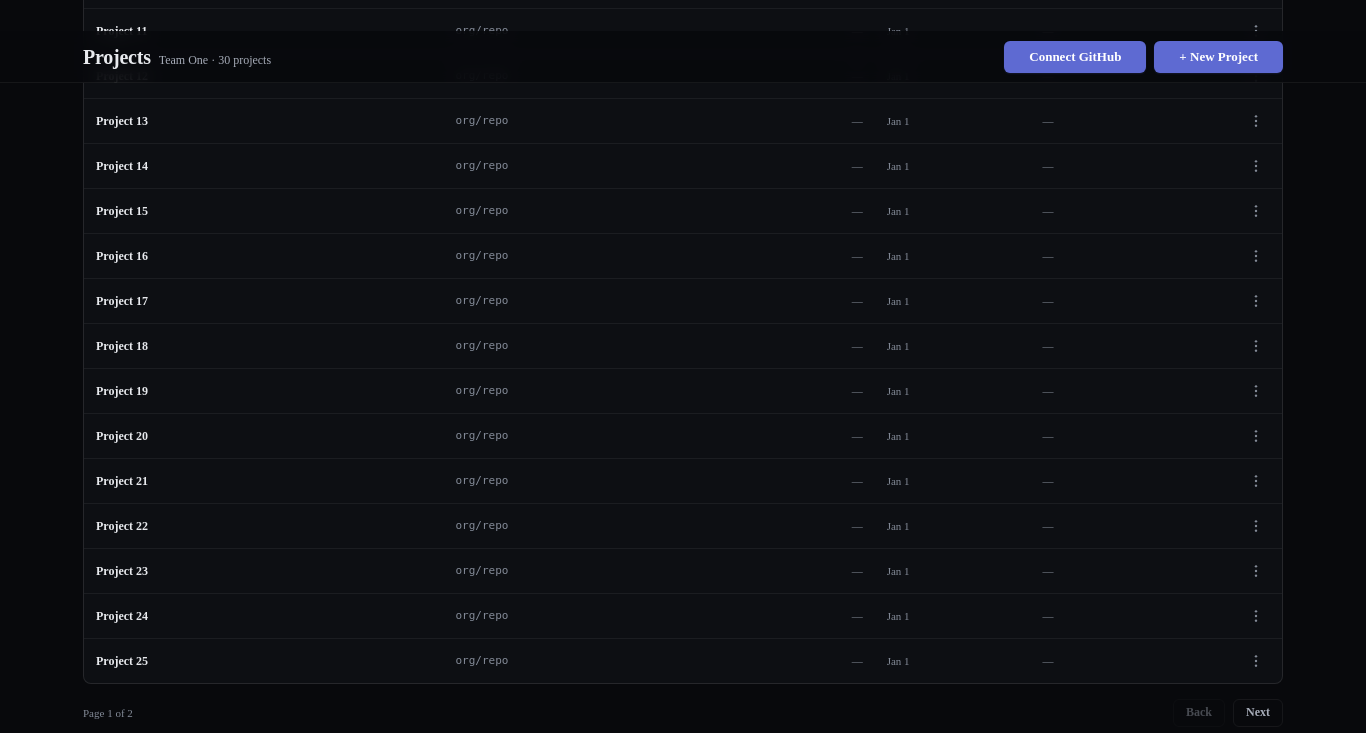
Test case: /projects pagination reset › the GitHub-only filter goes back to page 1
(page scrolled)
Step 1. Click the button "Next" → coordinates (1258, 713), box [1233,699,1283,727]
(page scrolled)
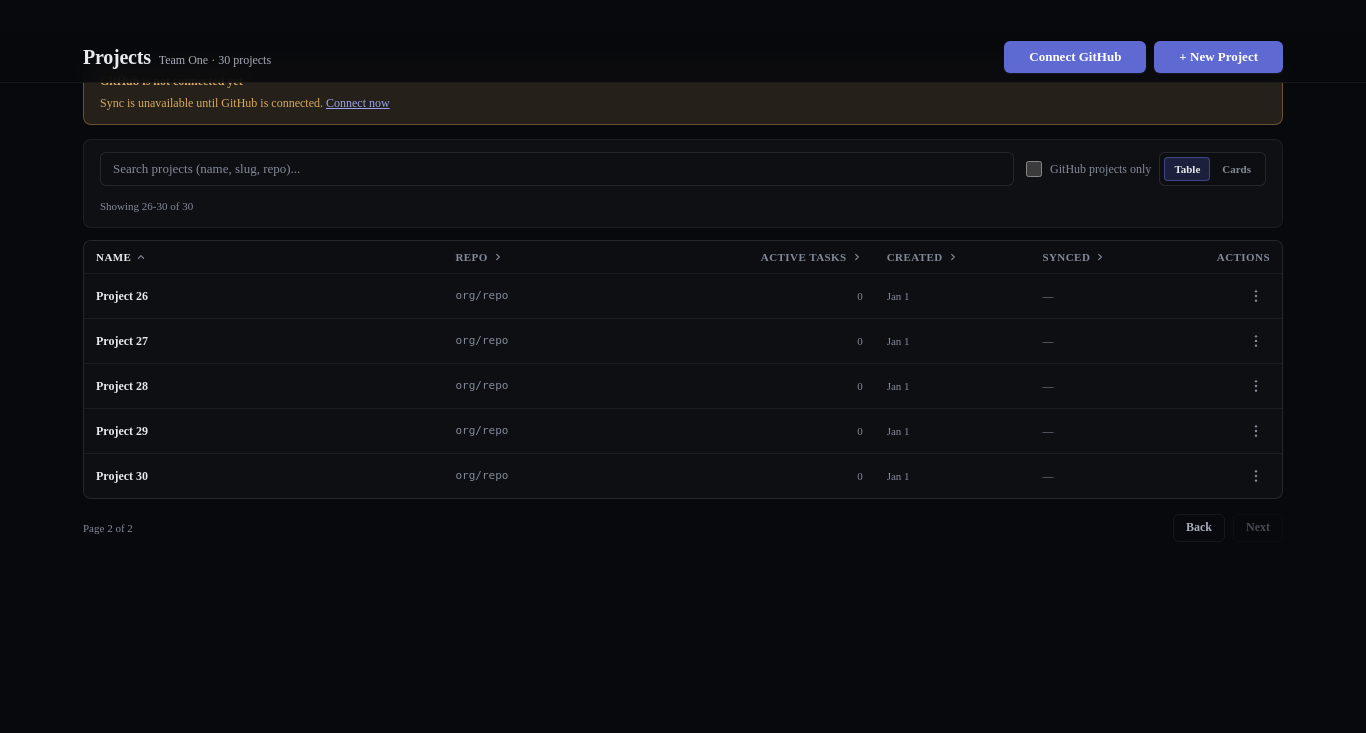
Now the text "Showing 26-30 of 30" is shown, box [100,200,193,212]
Step 2. Click the checkbox labelled "GitHub projects only" → coordinates (1034, 169), box [1026,161,1042,177]
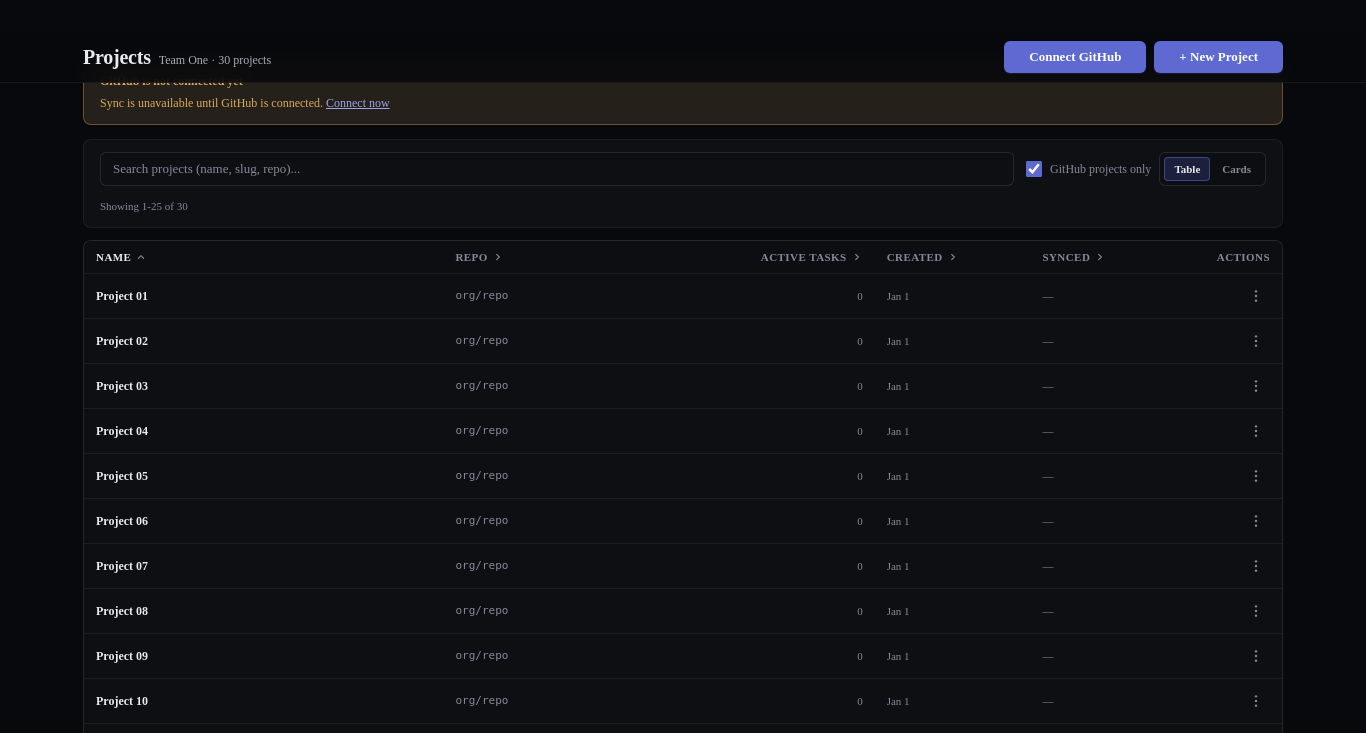
Now the text "Showing 1-25 of 30" is shown, box [100,200,188,212]
